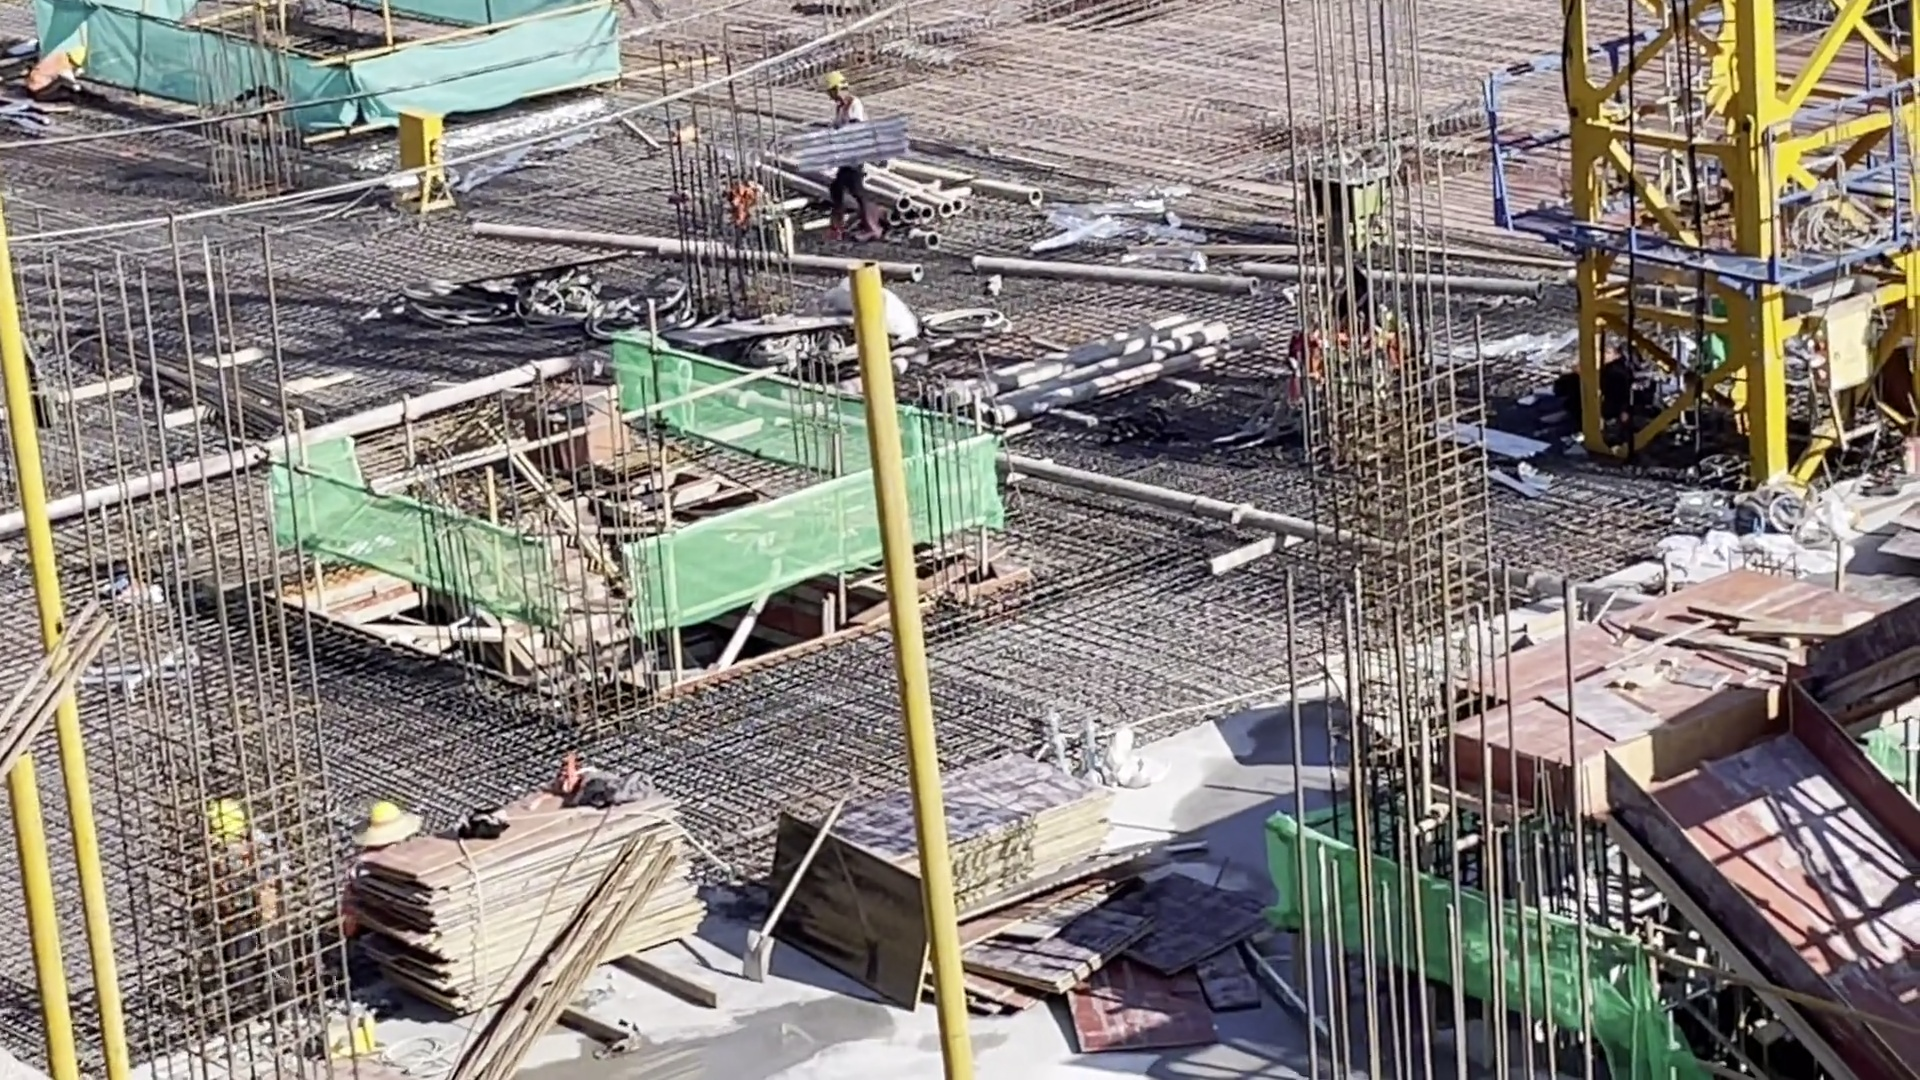board: (376, 760, 729, 1023), (799, 745, 1106, 980)
ebox: (384, 95, 518, 234)
helmet: (202, 796, 249, 853), (370, 792, 407, 836), (818, 66, 849, 96), (64, 36, 88, 66)
person: (188, 793, 300, 923), (809, 65, 882, 252), (20, 27, 103, 107)
scaffold: (888, 153, 1075, 257)
vest: (22, 49, 67, 101)
